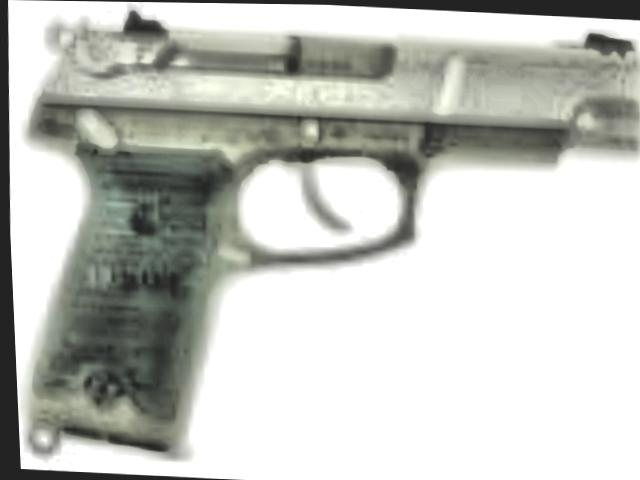pistol: (0, 0, 640, 473)
